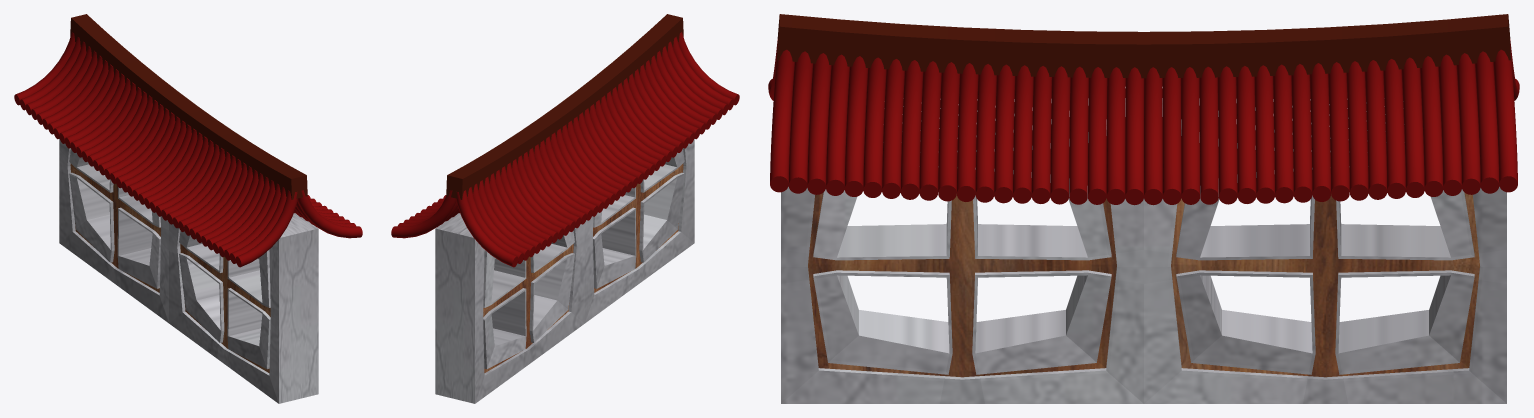
File: WAllPass.fbx
3 renders of one model, left to right at view 1: azimuth 30°, elevation 25°; view 2: azimuth 150°, elevation 25°; view 3: azimuth 270°, elevation 25°, orthographic. The views are drawn at different scales.
Parts seen in each view (by area): view 1: Box001, Cylinder002, Box002; view 2: Box001, Cylinder002, Box002; view 3: Box001, Cylinder002, Box002.
Boxes of the visible parts, x1=… form: Box001: x1=59, y1=139, x2=318, y2=403; Cylinder002: x1=14, y1=32, x2=362, y2=267; Box002: x1=70, y1=14, x2=307, y2=199; Box001: x1=435, y1=139, x2=694, y2=403; Cylinder002: x1=391, y1=32, x2=739, y2=267; Box002: x1=446, y1=14, x2=683, y2=199; Box001: x1=781, y1=98, x2=1506, y2=403; Cylinder002: x1=768, y1=39, x2=1519, y2=205; Box002: x1=777, y1=14, x2=1510, y2=78.
Size of the model in its own units: 156 by 268 by 497.
